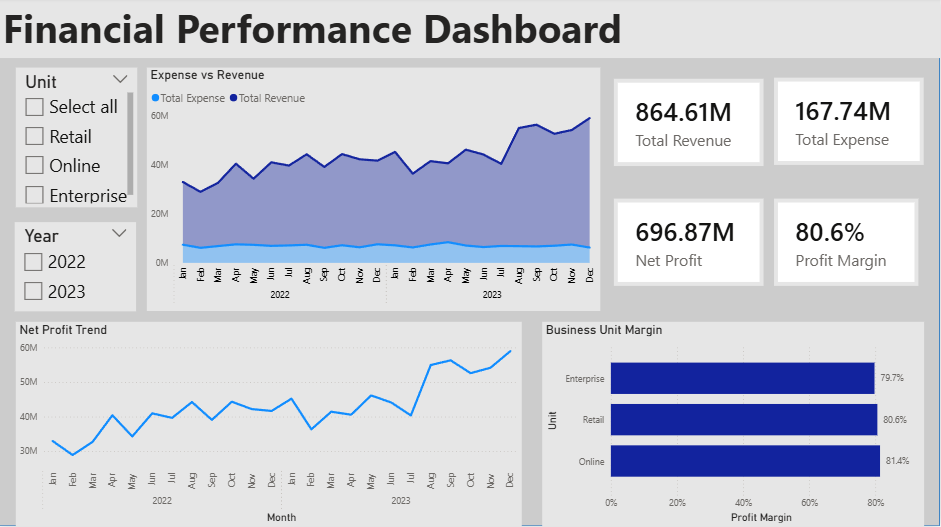

The page's visual inventory and layout, read from the dashboard file:
{"tool":"powerbi","page":{"name":"Page 1","canvas":[1280,720],"ordinal":0},"visuals":[{"type":"shape","box":[0,0,1280,720],"z":0},{"type":"cardVisual","fields":{"Data":["public financial_summary.Total Revenue"]},"box":[836.7,111.7,203.3,118.3],"z":1000},{"type":"cardVisual","fields":{"Data":["clean_transactions.Correct Net Profit"]},"box":[836.7,275,203.3,118.3],"z":2000},{"type":"cardVisual","fields":{"Data":["clean_transactions.Correct Profit Margin"]},"box":[1055,275,196.7,118.3],"z":3000},{"type":"lineChart","title":"Net Profit Trend","fields":{"Y":["Sum(public budget_vs_actual.net_profit)"],"Category":["public financial_summary.year","public financial_summary.Month_Name"]},"box":[23.3,441.7,688.3,278.3],"z":4000},{"type":"cardVisual","fields":{"Data":["clean_transactions.Display Expense"]},"box":[1055,110,203.3,118.3],"z":5000},{"type":"actionButton","box":[0,0,100,40],"z":6000},{"type":"stackedAreaChart","title":" Expense vs Revenue ","fields":{"Category":["public financial_summary.year","public financial_summary.Month_Name"],"Y":["clean_transactions.Total Expense","public financial_summary.Total Revenue"]},"box":[201.7,96.7,616.7,331.7],"z":7000},{"type":"barChart","title":"Business Unit Margin","fields":{"Category":["public budget_vs_actual.business_unit"],"Y":["clean_transactions.Correct Profit Margin"]},"box":[738.3,441.7,520,278.3],"z":8000},{"type":"slicer","fields":{"Values":["public budget_vs_actual.Unit"]},"box":[23.3,96.7,165,190],"z":9000},{"type":"slicer","fields":{"Values":["public budget_vs_actual.year"]},"box":[21.7,306.7,165,121.7],"z":10000},{"type":"textbox","box":[0,0,1280,83.3],"z":11000}]}

Visuals, with their boxes in screenshot pixels (x1, y1, x2, y2), scaled from the page's 1280x720 canvas onto the 941x527 screenshot:
shape: [0, 0, 940, 526]
cardVisual - public financial_summary.Total Revenue: [615, 82, 765, 168]
cardVisual - clean_transactions.Correct Net Profit: [615, 201, 765, 288]
cardVisual - clean_transactions.Correct Profit Margin: [776, 201, 920, 288]
"Net Profit Trend" lineChart: [17, 323, 523, 526]
cardVisual - clean_transactions.Display Expense: [776, 81, 925, 167]
actionButton: [0, 0, 74, 29]
" Expense vs Revenue " stackedAreaChart: [148, 71, 602, 314]
"Business Unit Margin" barChart: [543, 323, 925, 526]
slicer - public budget_vs_actual.Unit: [17, 71, 138, 210]
slicer - public budget_vs_actual.year: [16, 224, 137, 314]
textbox: [0, 0, 940, 61]
